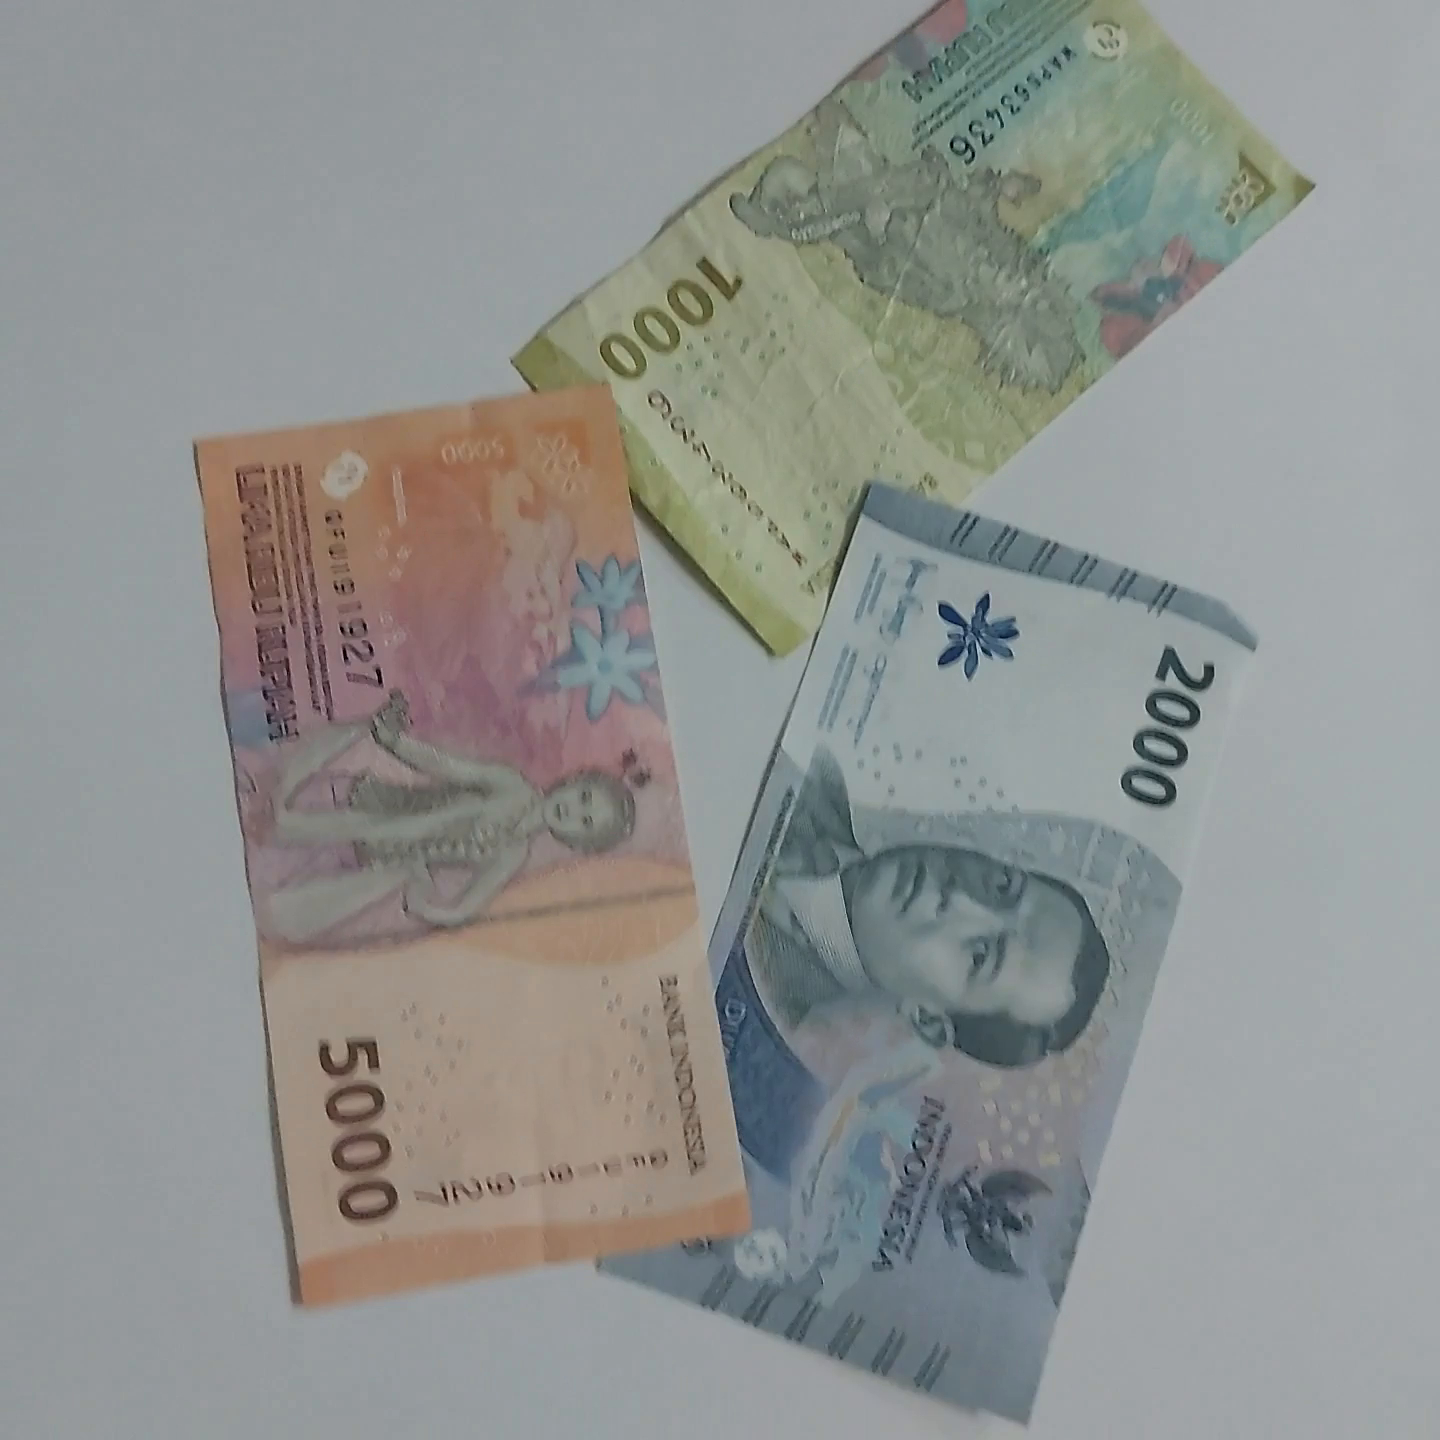1k: (575, 497, 1303, 1433), (462, 0, 1383, 663)
5k: (117, 365, 769, 1319)
